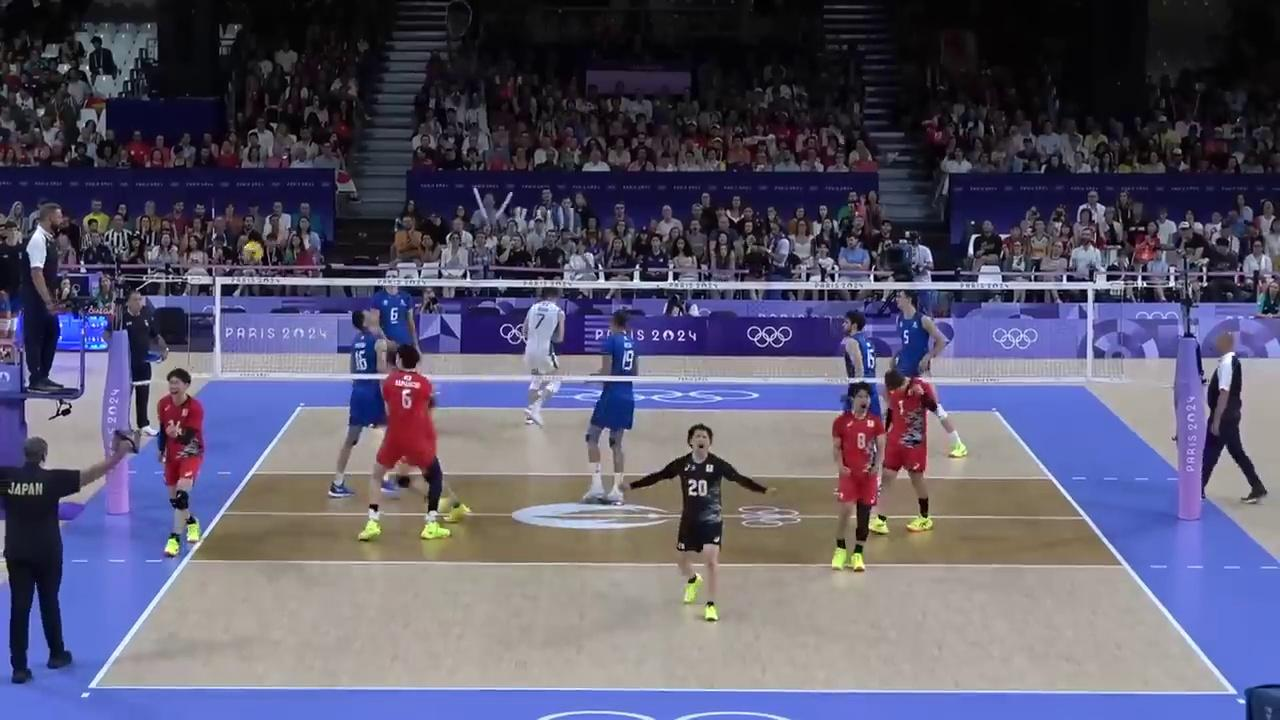ball: (246, 242, 263, 262)
